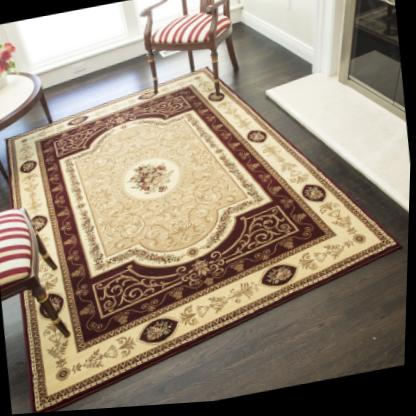Carpet: (5, 68, 405, 414)
